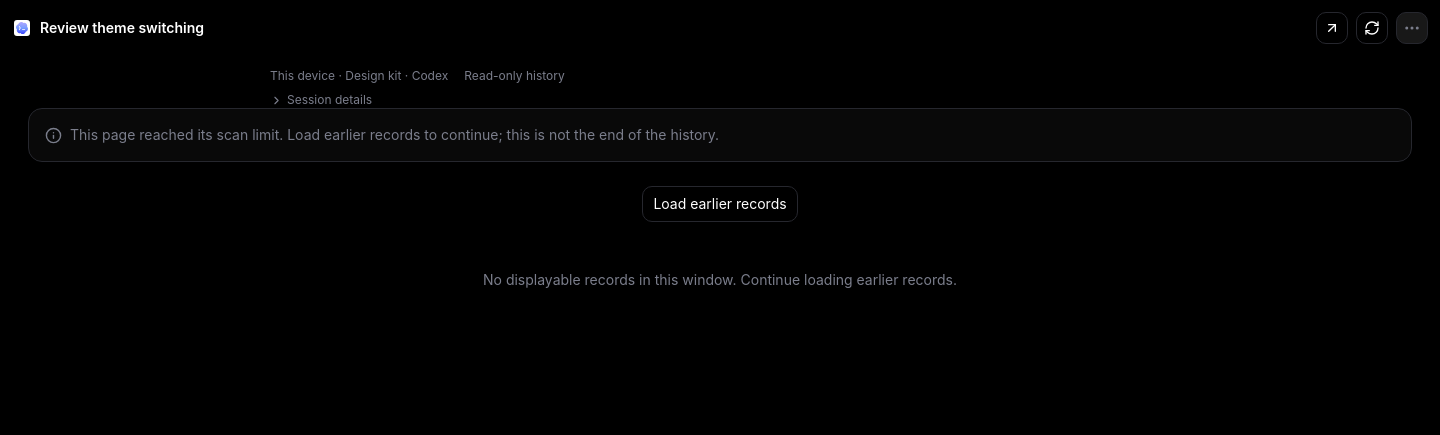
Test: SessionHubPage › explains an empty bounded window and keeps earlier paging available
Check: the text "No displayable records in this window. Continue loading earlier records." is shown, box [483,271,957,288]
Check: the text "Initially loads up to 50 latest records" is not shown
Step 1. Click the button "Session details" → (321, 100), box [270,92,372,108]
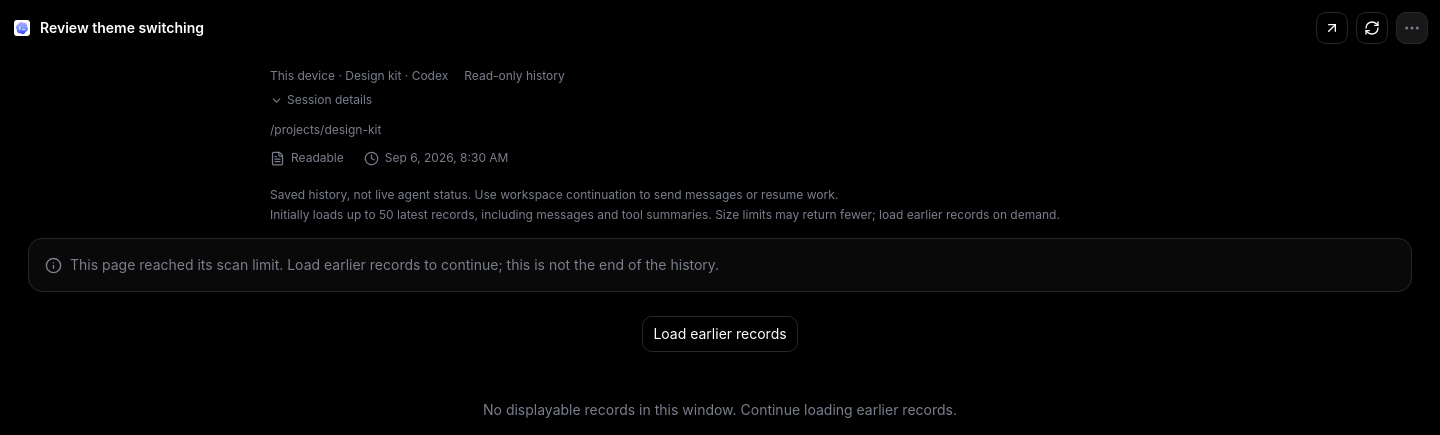
Check: the text "Initially loads up to 50 latest records" is shown, box [270,207,1060,222]
Step 2. Click the button "Load earlier records" → (720, 334), box [642,316,798,352]
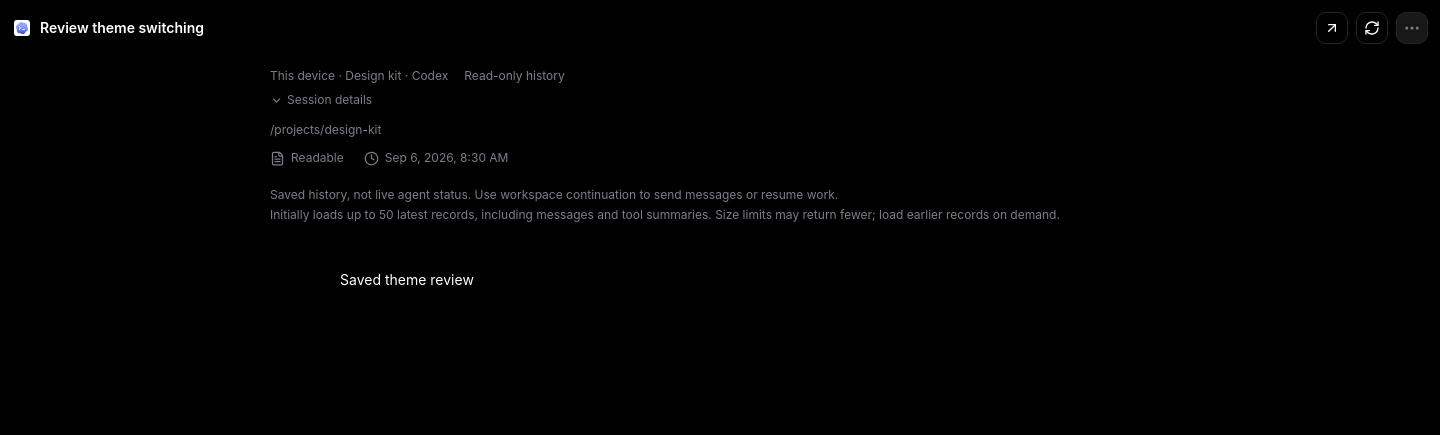
Check: the text "Saved theme review" is shown, box [340,271,474,288]
